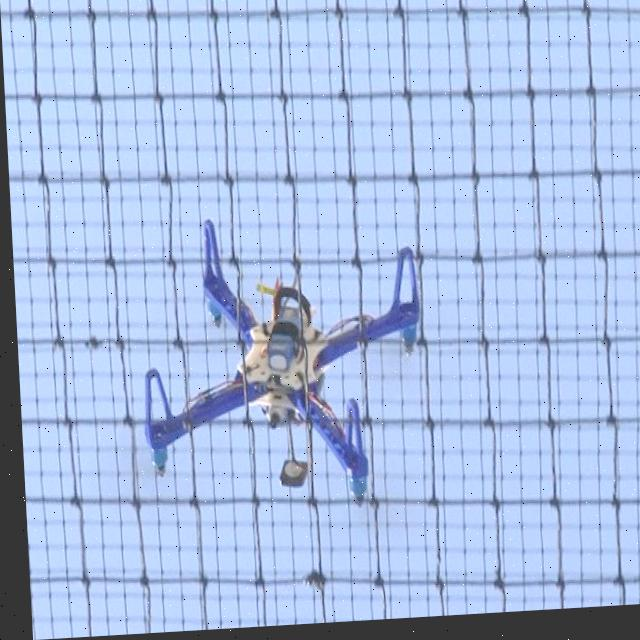drone: (127, 224, 457, 531)
